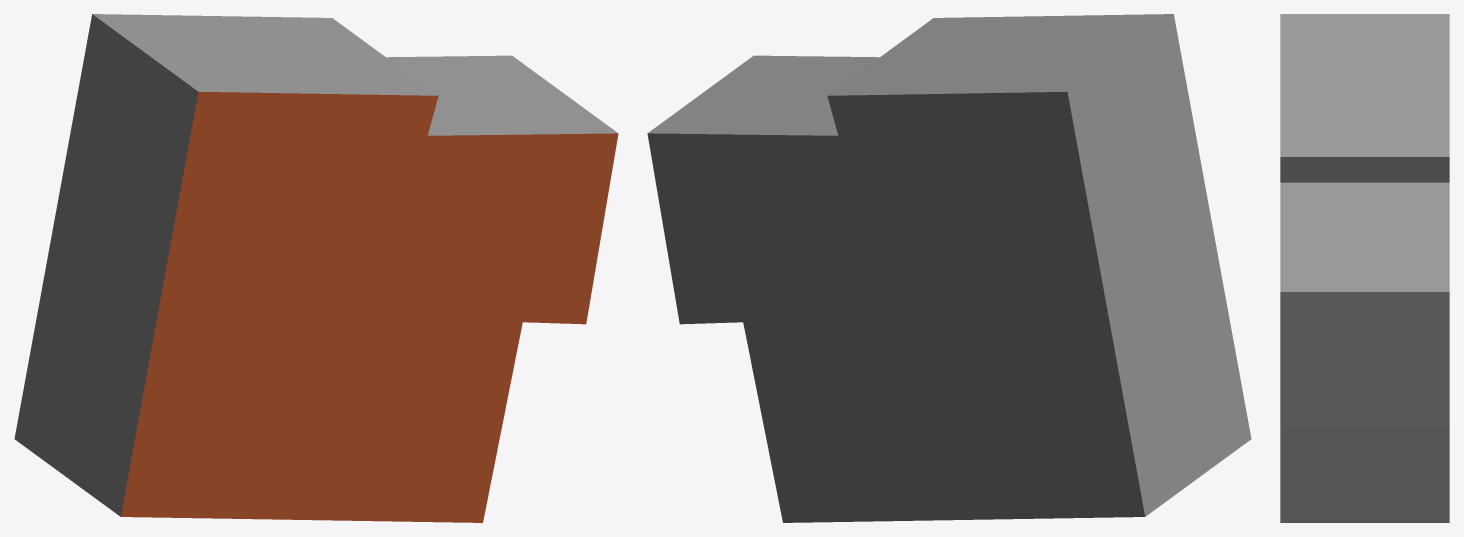
File: construction_3287_assumed_A_Casa_h6m.obj
The picture shows the model from 3 angles, left to right: view 1: azimuth 30°, elevation 25°; view 2: azimuth 150°, elevation 25°; view 3: azimuth 270°, elevation 25°; orthographic projection. The views are drawn at different scales.
Parts seen in each view (by area): view 1: construction_3287_assumed_A_Casa; view 2: construction_3287_assumed_A_Casa; view 3: construction_3287_assumed_A_Casa.
Boxes of the visible parts, bbox=[...] form: construction_3287_assumed_A_Casa: bbox=[14, 14, 618, 522]; construction_3287_assumed_A_Casa: bbox=[647, 14, 1251, 522]; construction_3287_assumed_A_Casa: bbox=[1280, 14, 1449, 522].
Size of the model in its own units: 16.22 by 15.59 by 6.
